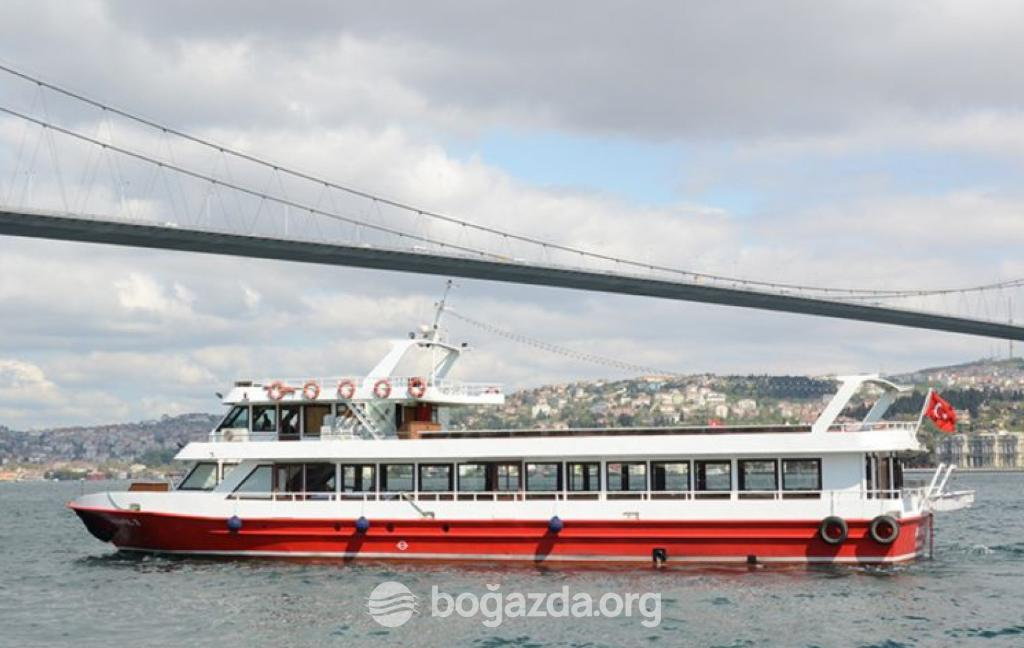PassengerShip: (40, 322, 984, 588)
